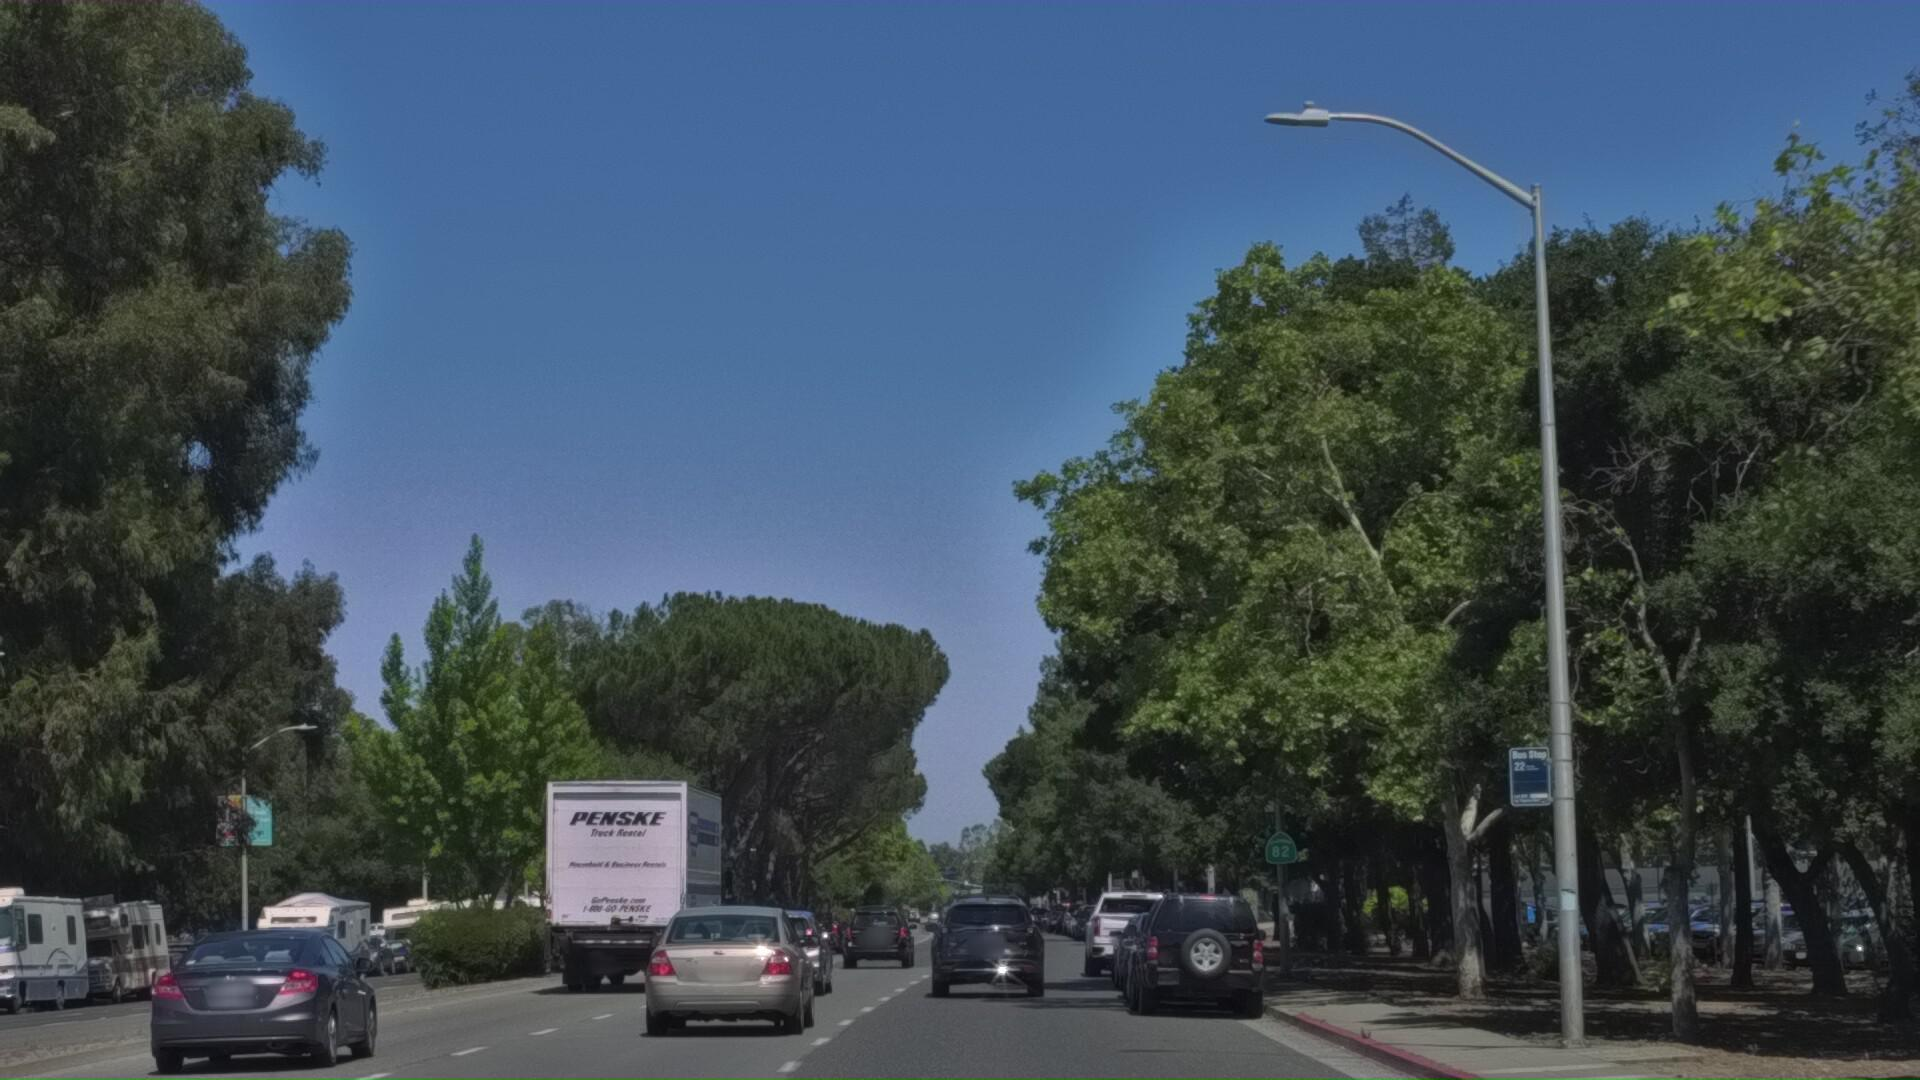car: (1106, 976, 1304, 1080), (146, 1010, 398, 1080), (632, 1000, 823, 1080), (911, 986, 1048, 1080), (1063, 982, 1187, 1080), (740, 1005, 858, 1080)
truck: (525, 857, 738, 1080)
